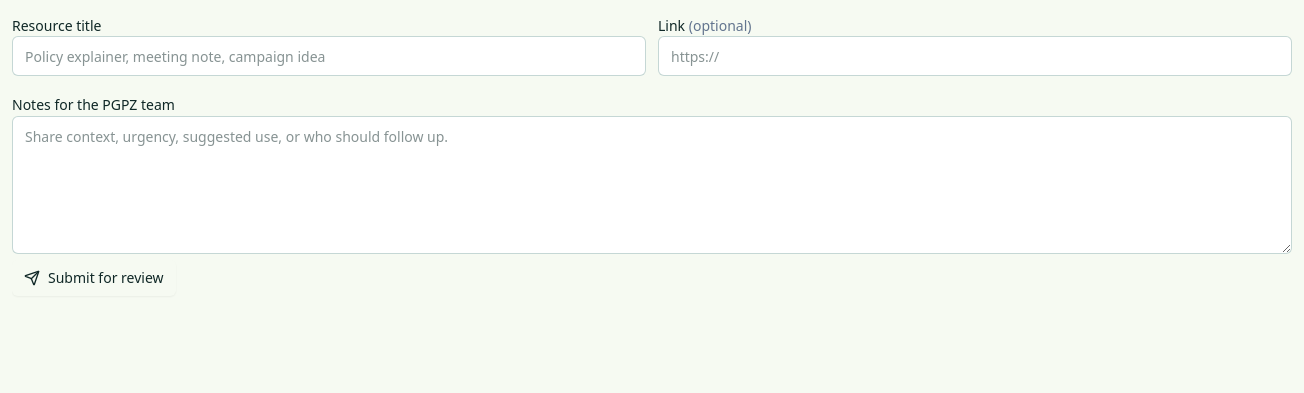
Test case: ResourceSubmissionForm › shows the server error and preserves the inputs
Step 1. Type "Resource needing correction" into the field labelled "Resource title" → (329, 56), box [12, 36, 646, 76]
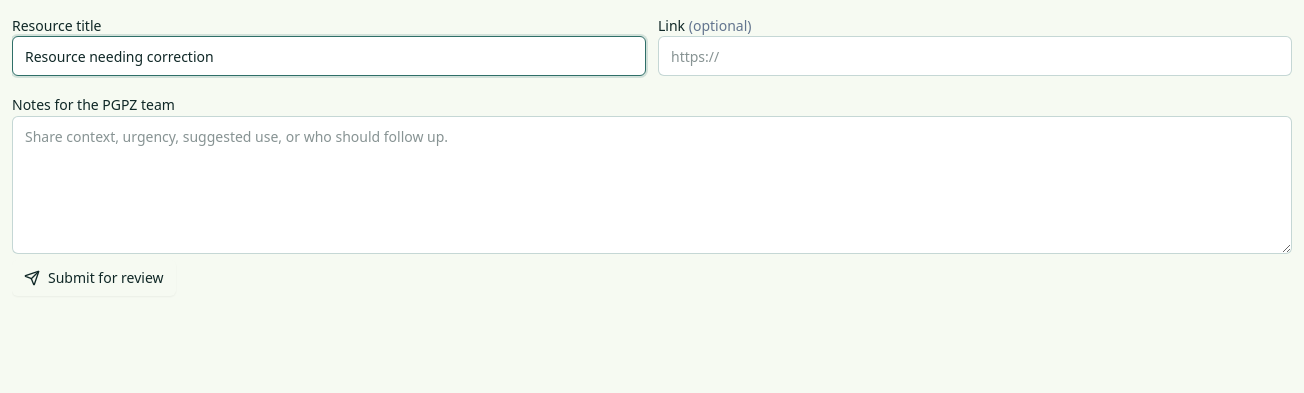
Step 2. Type "https://example.test/resource" into the field labelled "Link (optional)" → (975, 56), box [658, 36, 1292, 76]
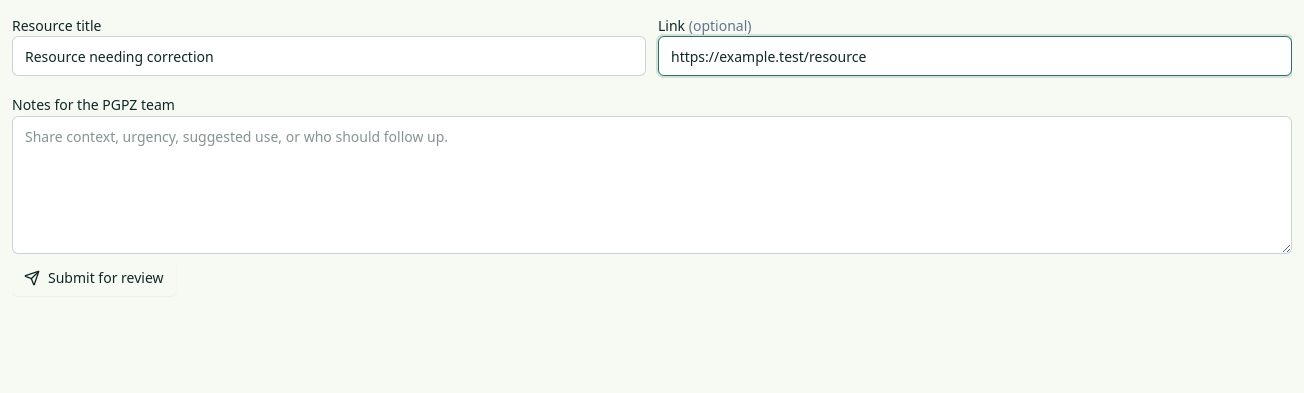
Step 3. Type "Please preserve these notes after an error." into the text box labelled "Notes for the PGPZ team" → (652, 185), box [12, 116, 1292, 254]
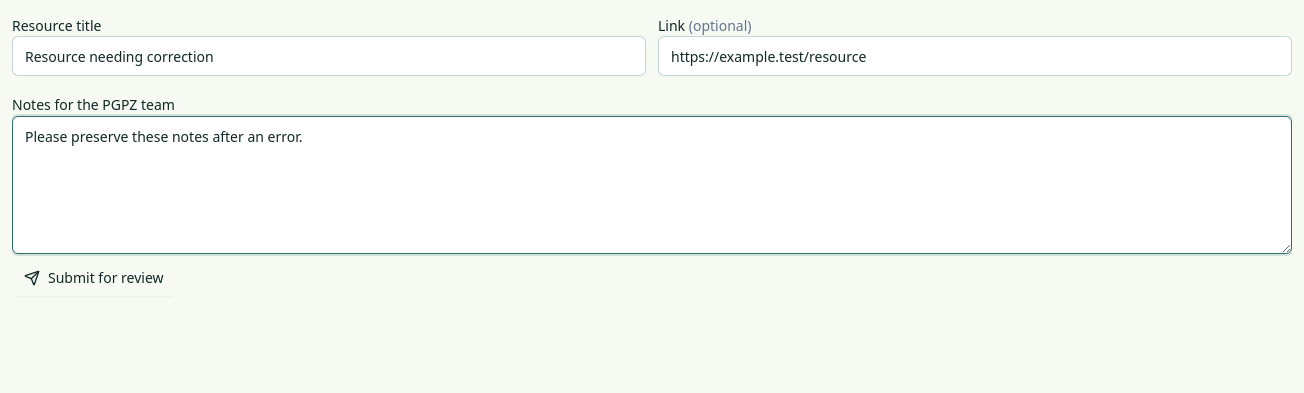
Step 4. Click the button "Submit for review" → (94, 278), box [12, 260, 176, 296]
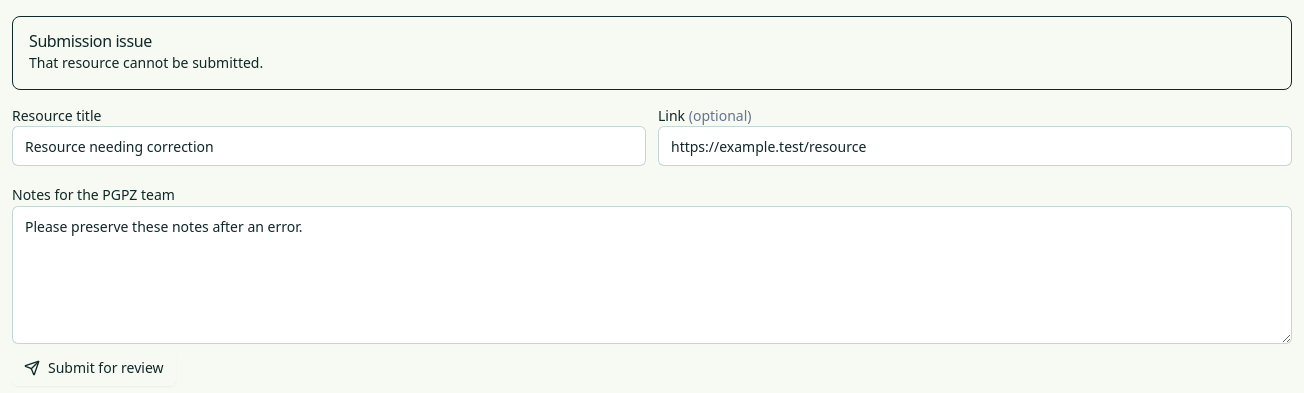
Check: the text "That resource cannot be submitted." is shown, box [29, 53, 263, 72]
